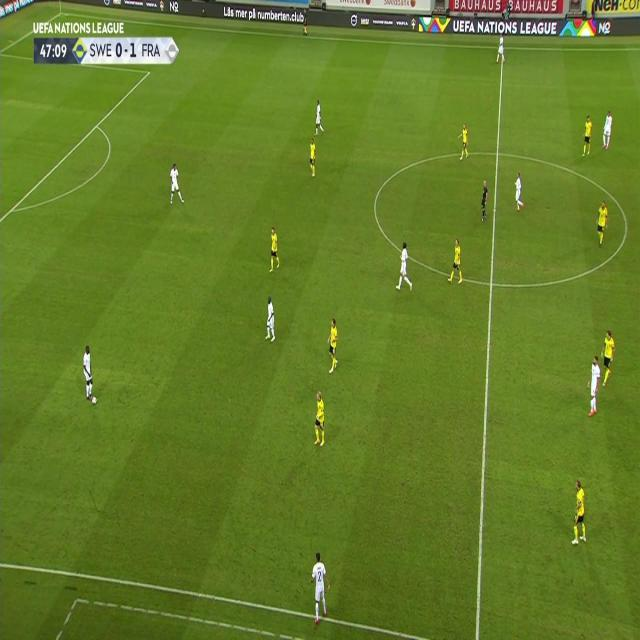ball: (91, 397, 97, 407)
player: (309, 550, 331, 623), (570, 479, 588, 548), (80, 344, 98, 405), (598, 329, 616, 388), (586, 354, 602, 418), (395, 242, 414, 292), (326, 318, 341, 374), (312, 390, 326, 449), (448, 238, 464, 284), (168, 162, 184, 206), (595, 198, 609, 247), (580, 114, 594, 156), (264, 294, 276, 342), (268, 225, 280, 273), (601, 110, 613, 150), (513, 172, 525, 212), (458, 123, 470, 161), (314, 99, 324, 136), (308, 138, 317, 178), (480, 179, 488, 222), (495, 36, 507, 64), (302, 10, 309, 36)
